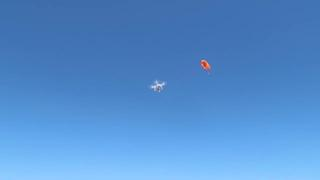UAV: (150, 81, 166, 92)
